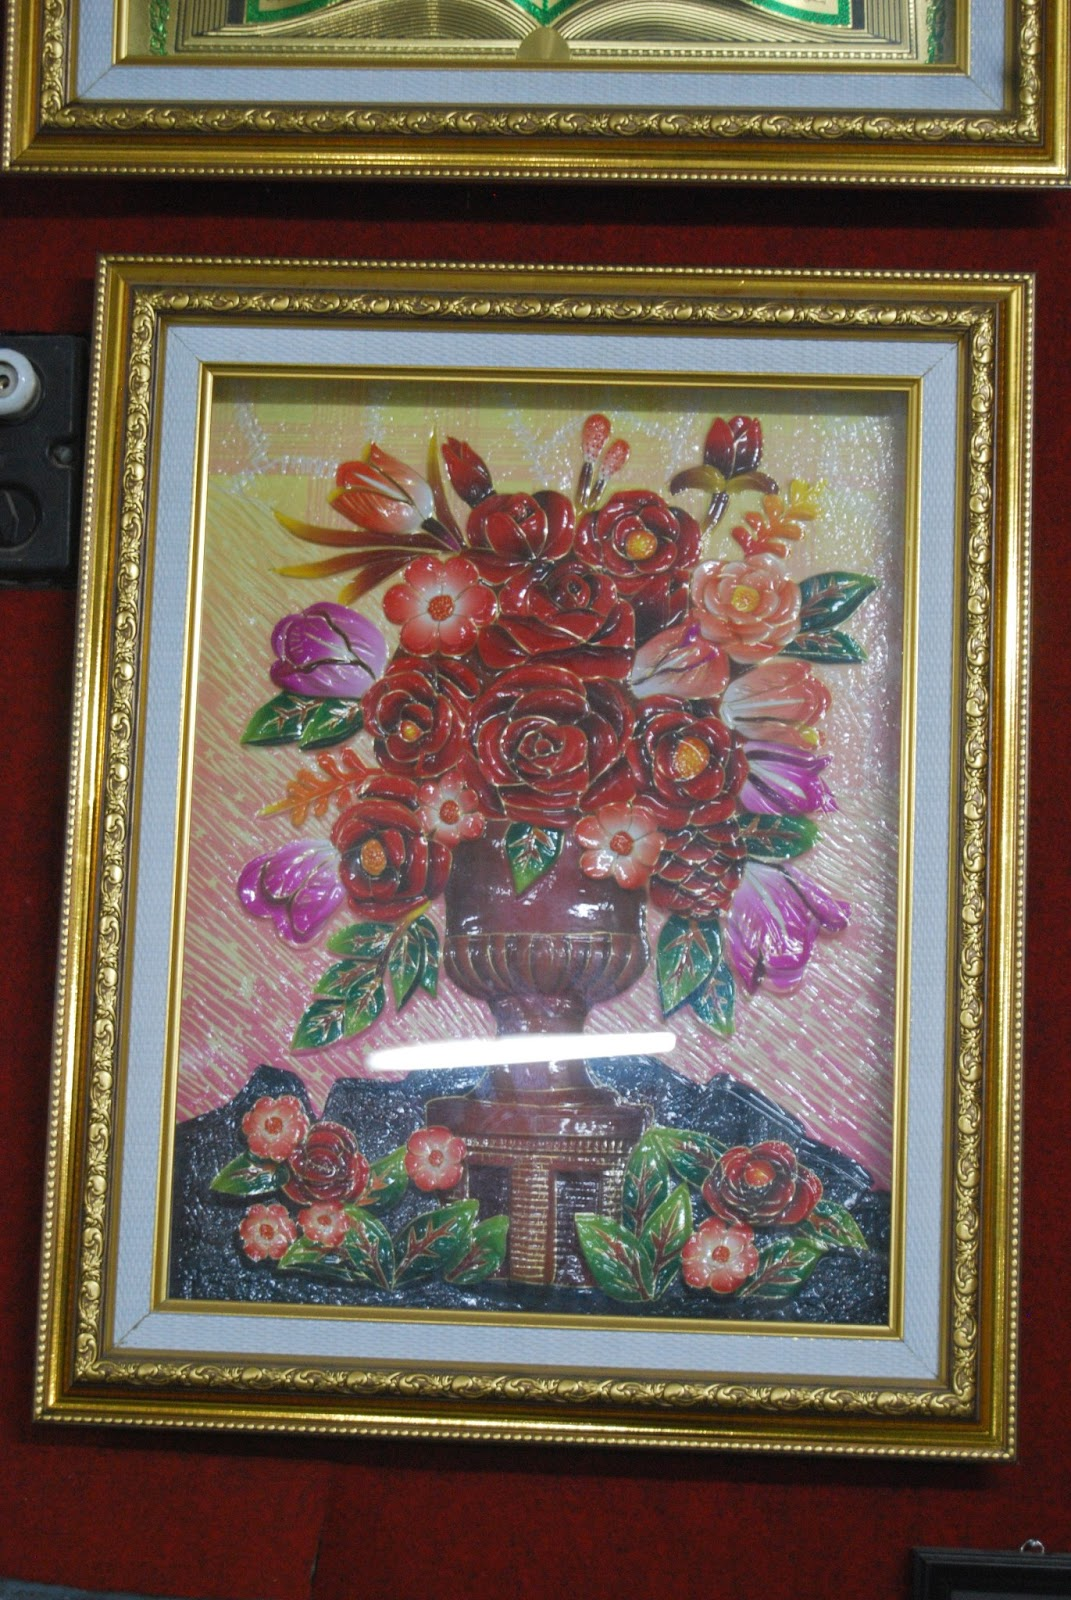lukisan: (59, 237, 1034, 1455)
